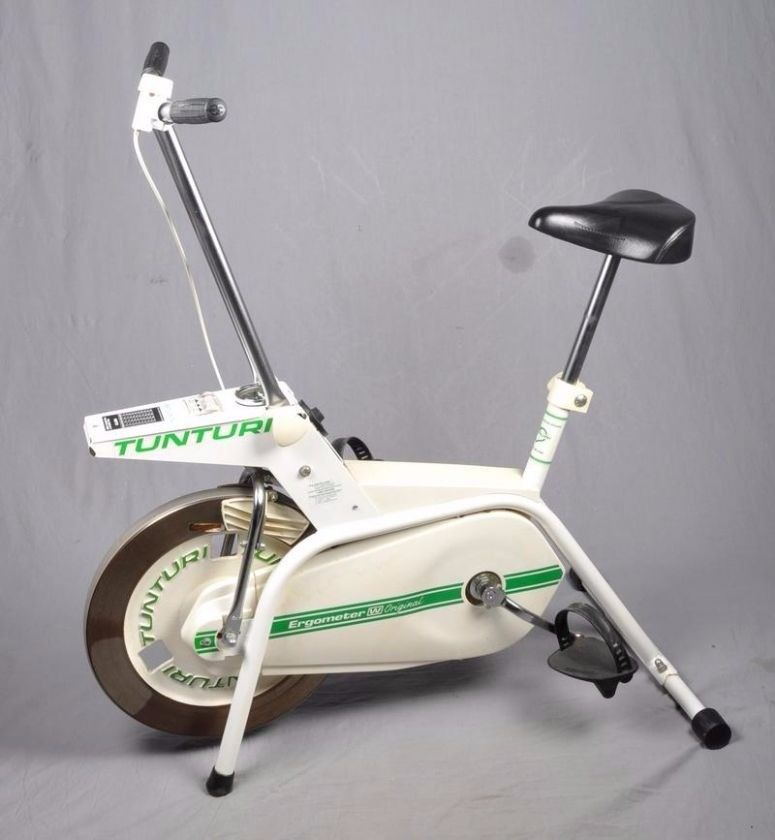gym_bike: (60, 44, 743, 794)
